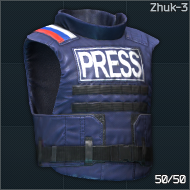BNTI Zhuk-3 press armor: (0, 0, 190, 190)
